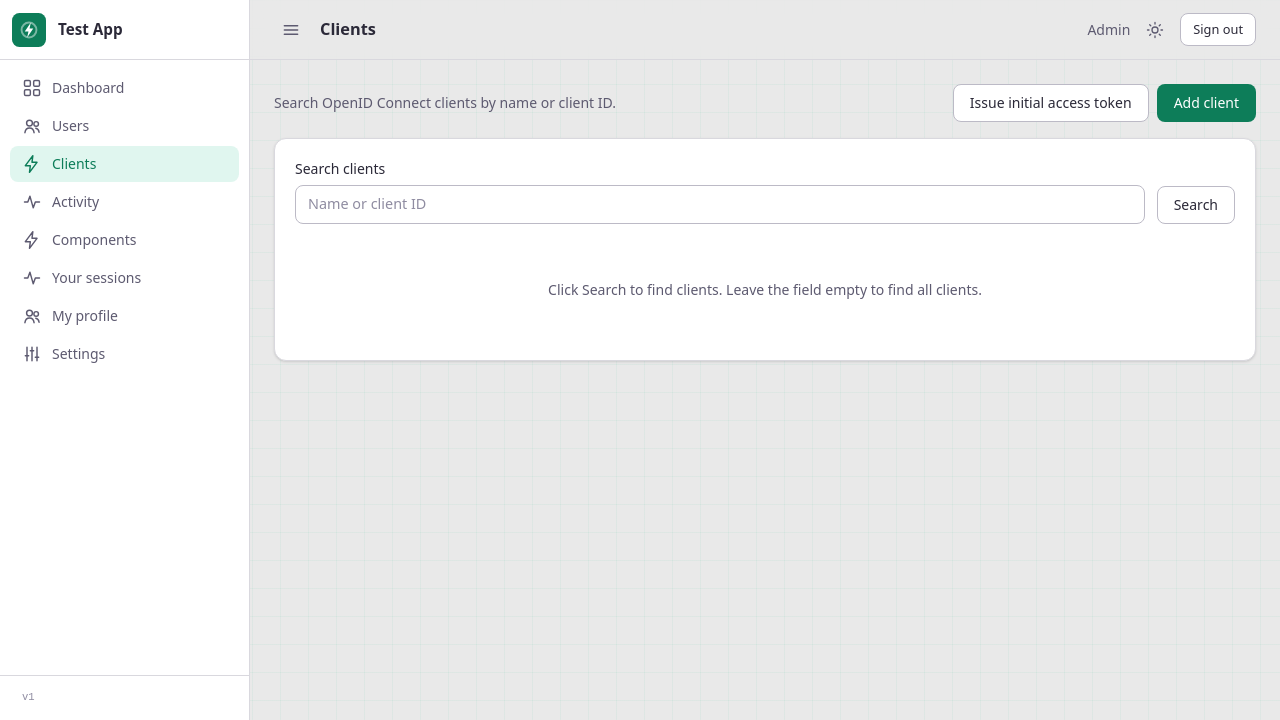
Test: client management › searches only on submission and preserves drafts, page, and saved results through detail
This screenshot has width=1280, height=720.
Type "Portal" into the search field labelled "Search clients".
click(720, 204); type("Portal")  # box [295, 185, 1145, 224]
Click the button "Search".
click(1196, 204)  # box [1157, 186, 1235, 224]
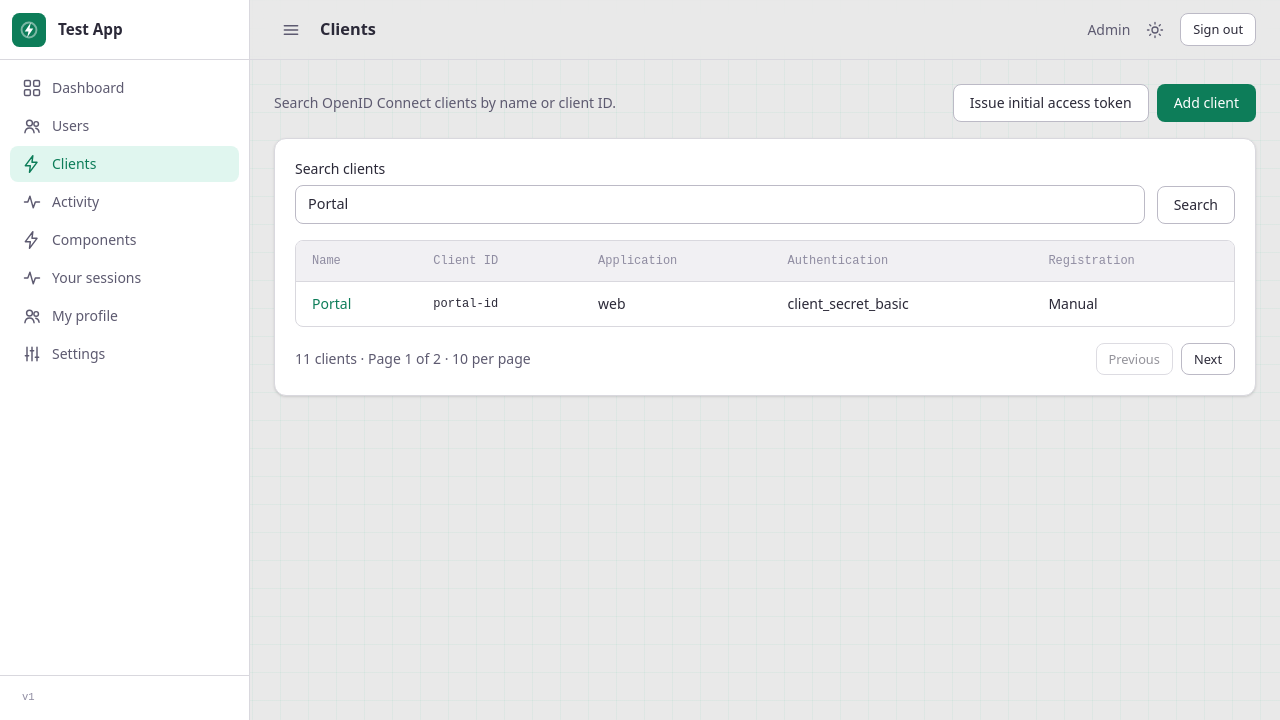
Result: the link "Portal" is shown at [312, 294, 351, 312]
Replace the text in the search field labelled "Search clients" with "Unsubmitted" at (720, 204), box [295, 185, 1145, 224]
Click the button "Next".
click(1208, 359)  # box [1181, 342, 1235, 375]
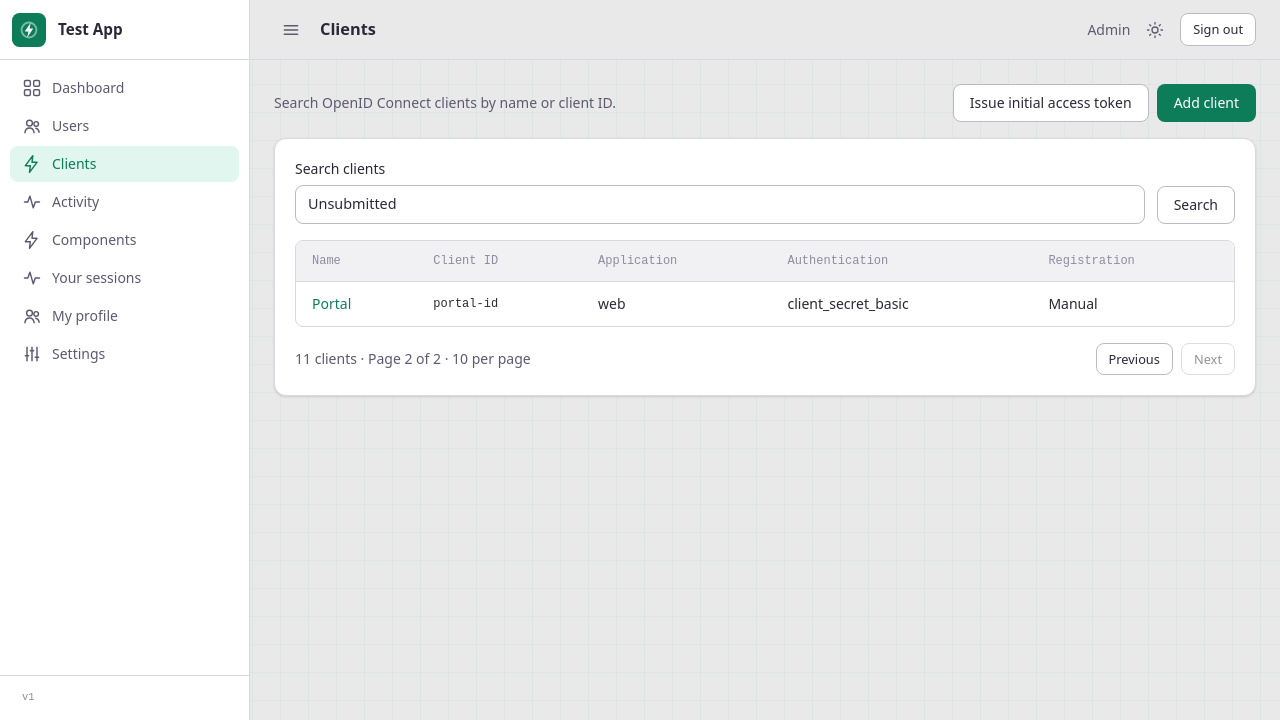
Click the link "Portal".
click(332, 303)  # box [312, 294, 351, 312]
(page scrolled)
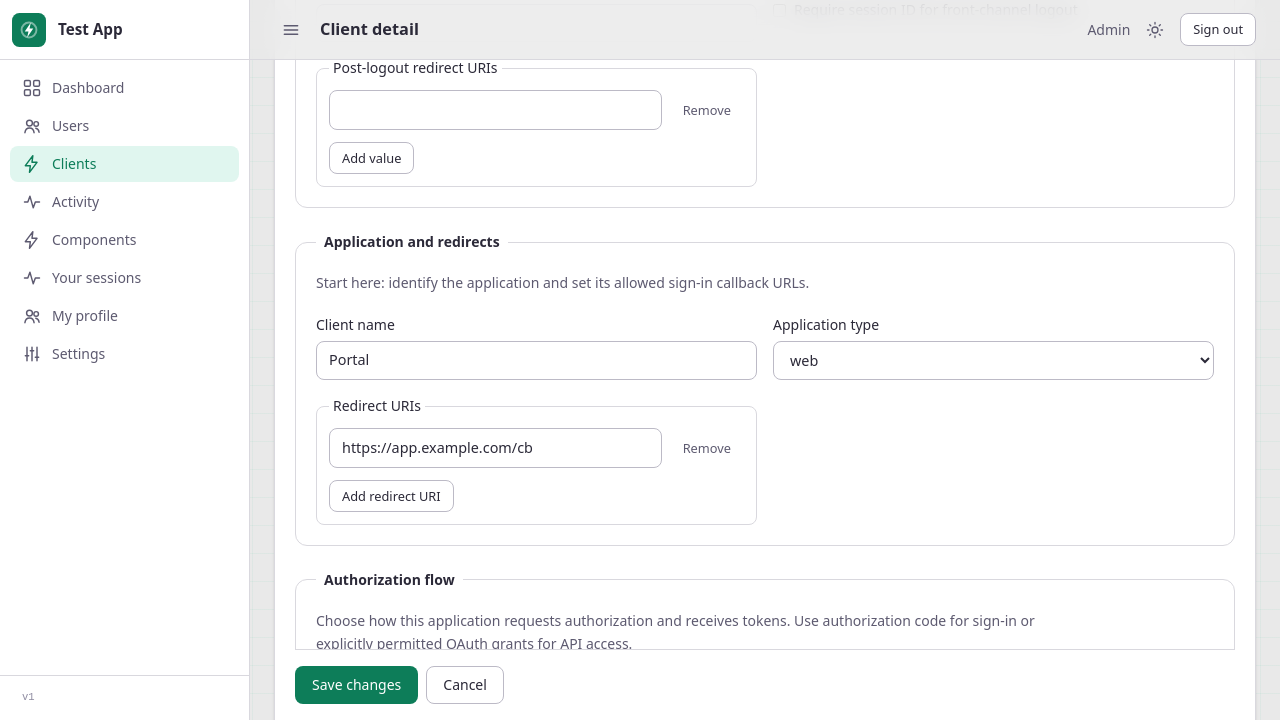
Replace the text in the field labelled "Client name" with "Updated Portal" at (536, 360), box [316, 341, 757, 380]
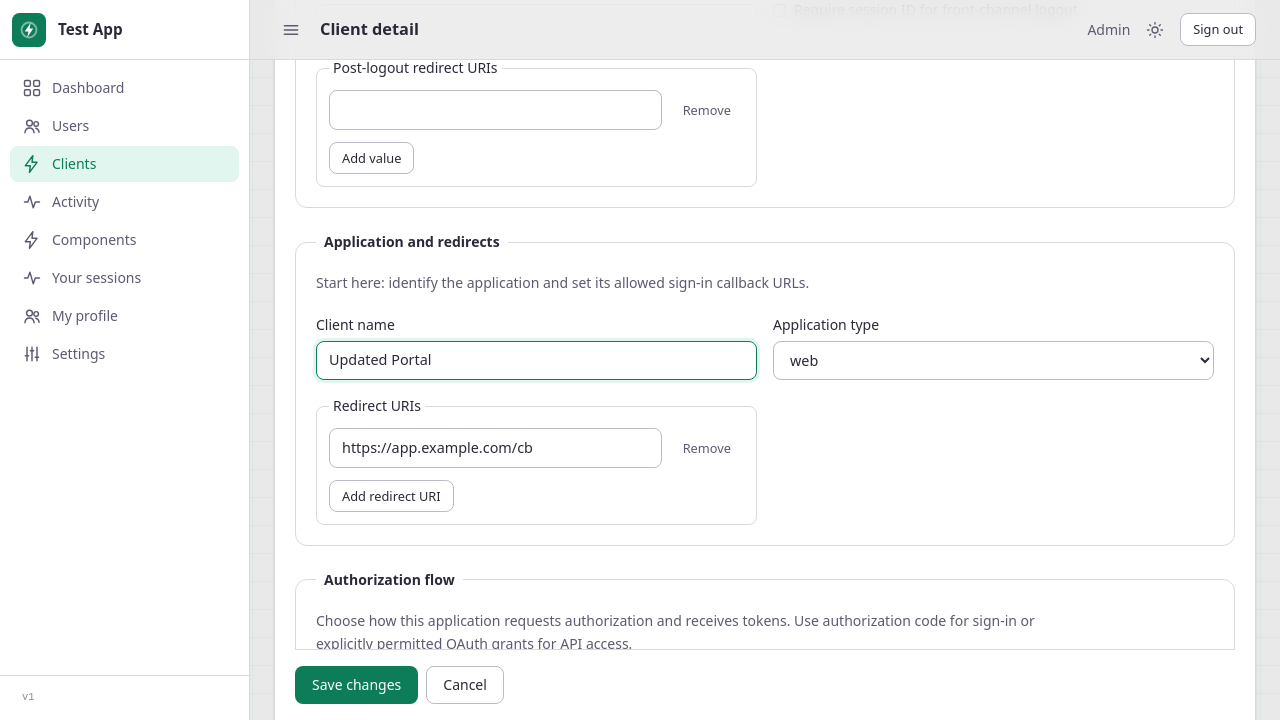
Click the button "Save changes".
click(357, 685)  # box [295, 666, 418, 704]
(page scrolled)
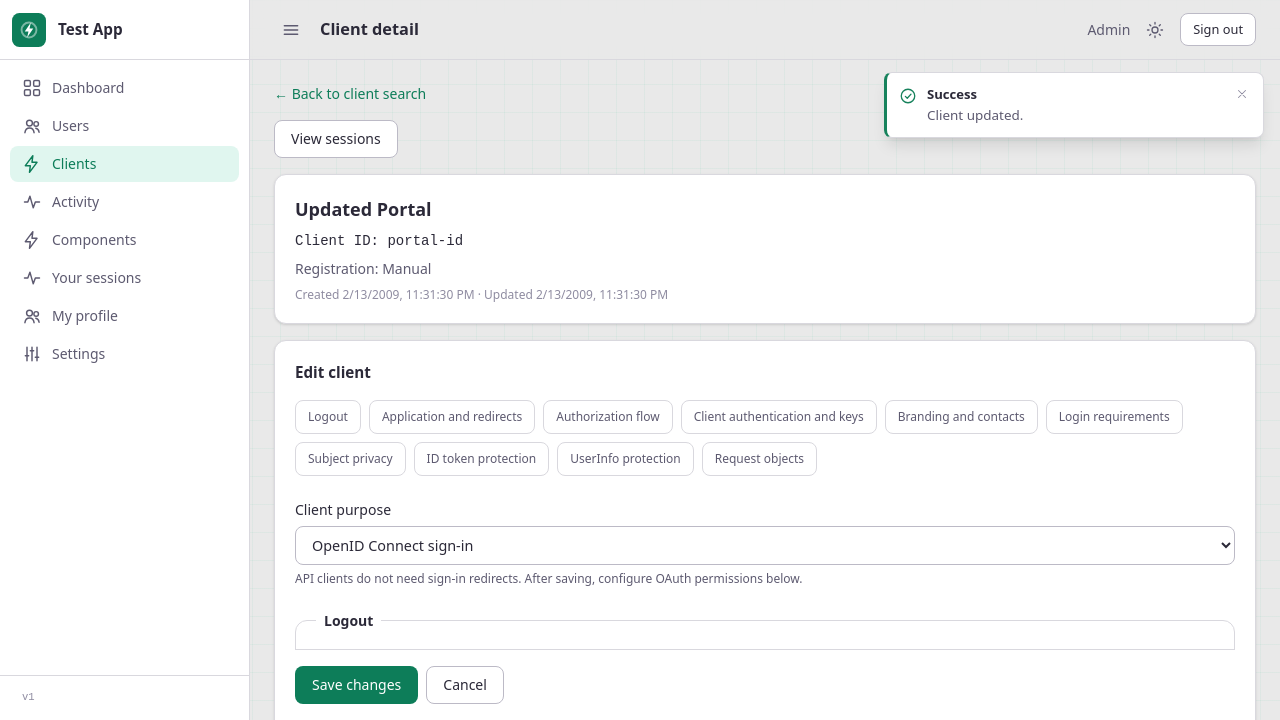
Result: the text "Client updated." is shown at [927, 105, 1023, 125]
Click the link "← Back to client search".
click(350, 94)  # box [274, 84, 426, 104]
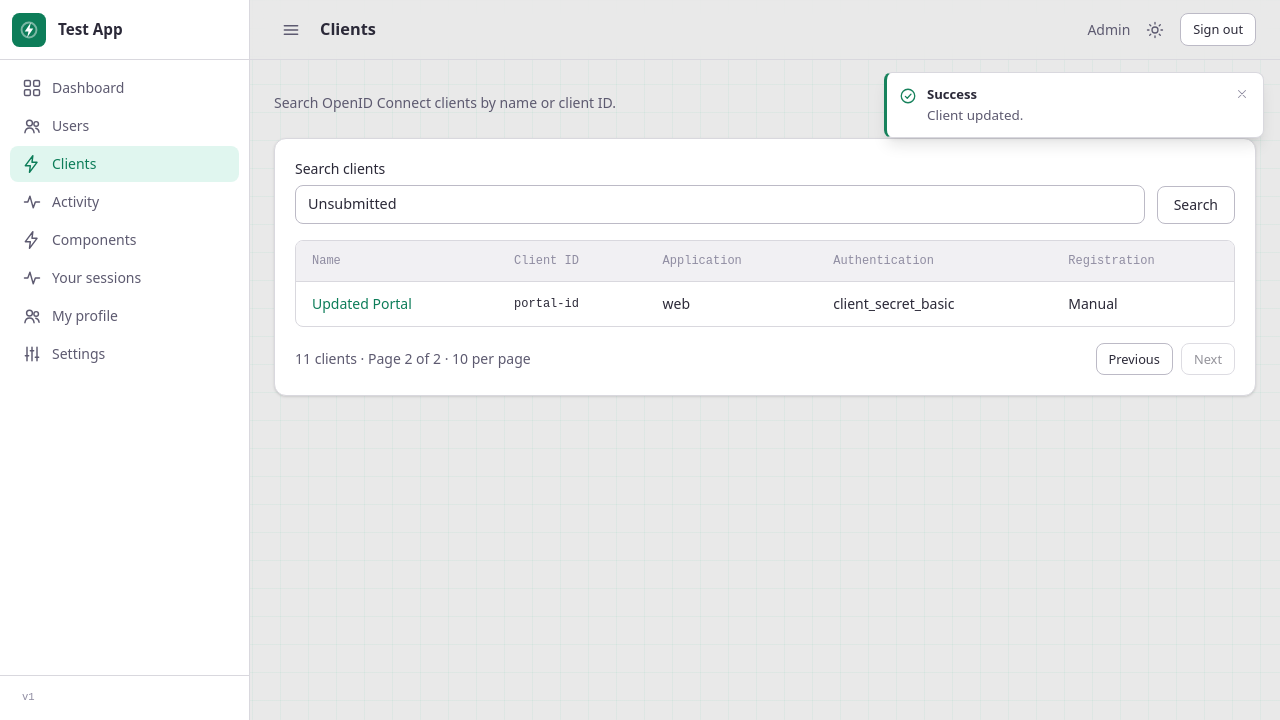
Result: the link "Updated Portal" is shown at [312, 294, 412, 312]
Result: the search field labelled "Search clients" holds "Unsubmitted" at [295, 185, 1145, 224]
Result: the button "Next" is disabled at [1181, 342, 1235, 375]
